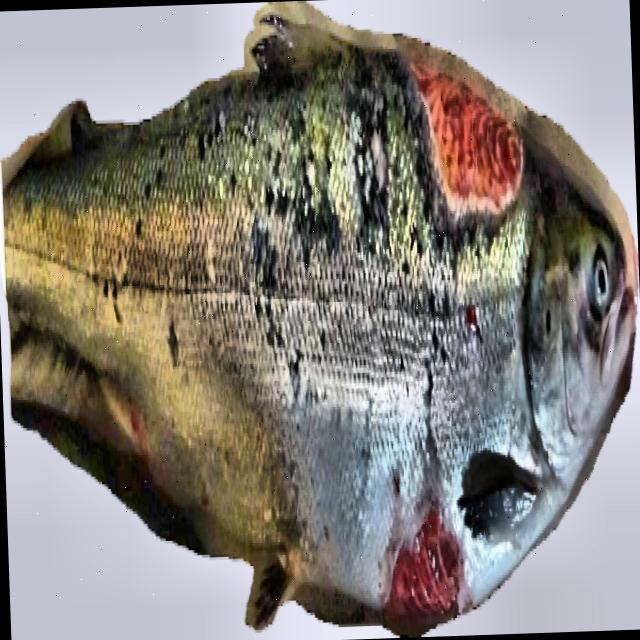wound: (415, 66, 523, 211), (385, 503, 471, 615)
